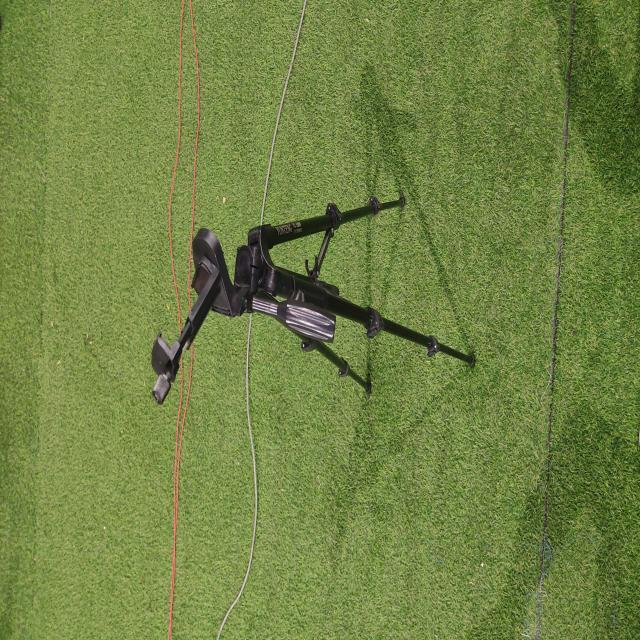Camer Stand: (150, 190, 476, 407)
